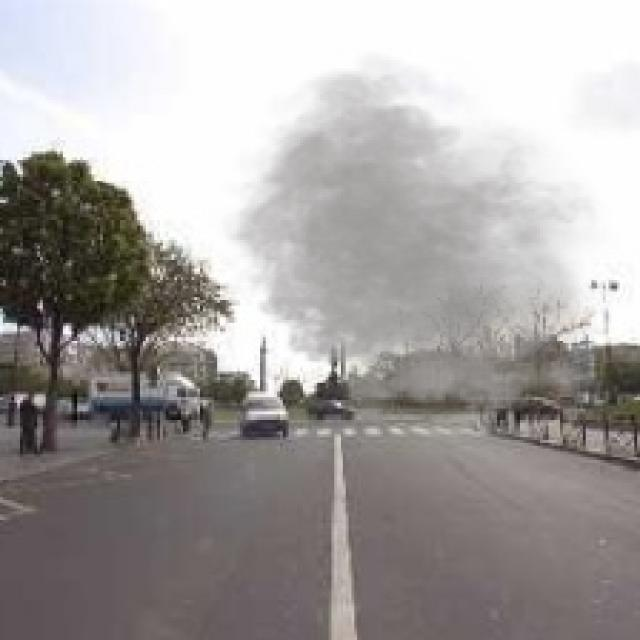Smoke: (208, 57, 620, 432)
